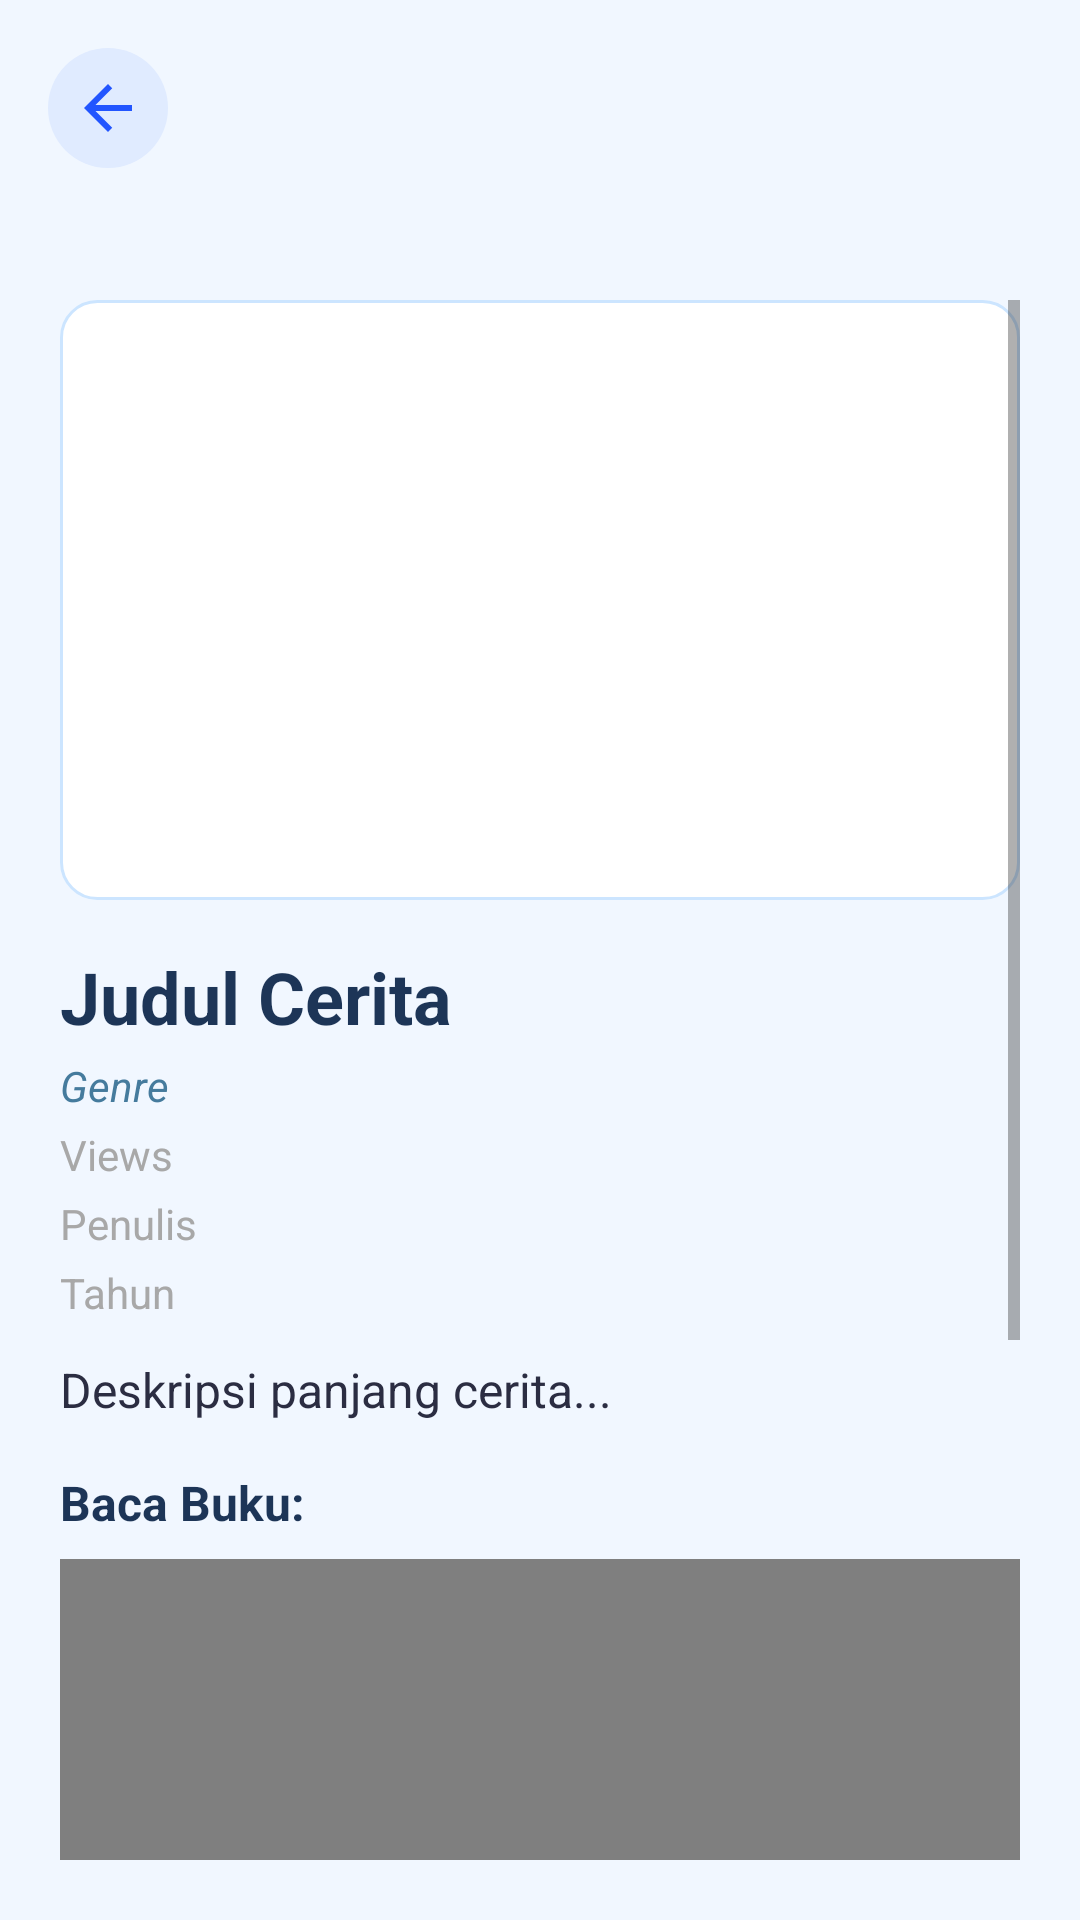

Icons on this 1080*1920 Android screen, each with the point to tap as point (x, y):
Kembali: point (108, 108)
